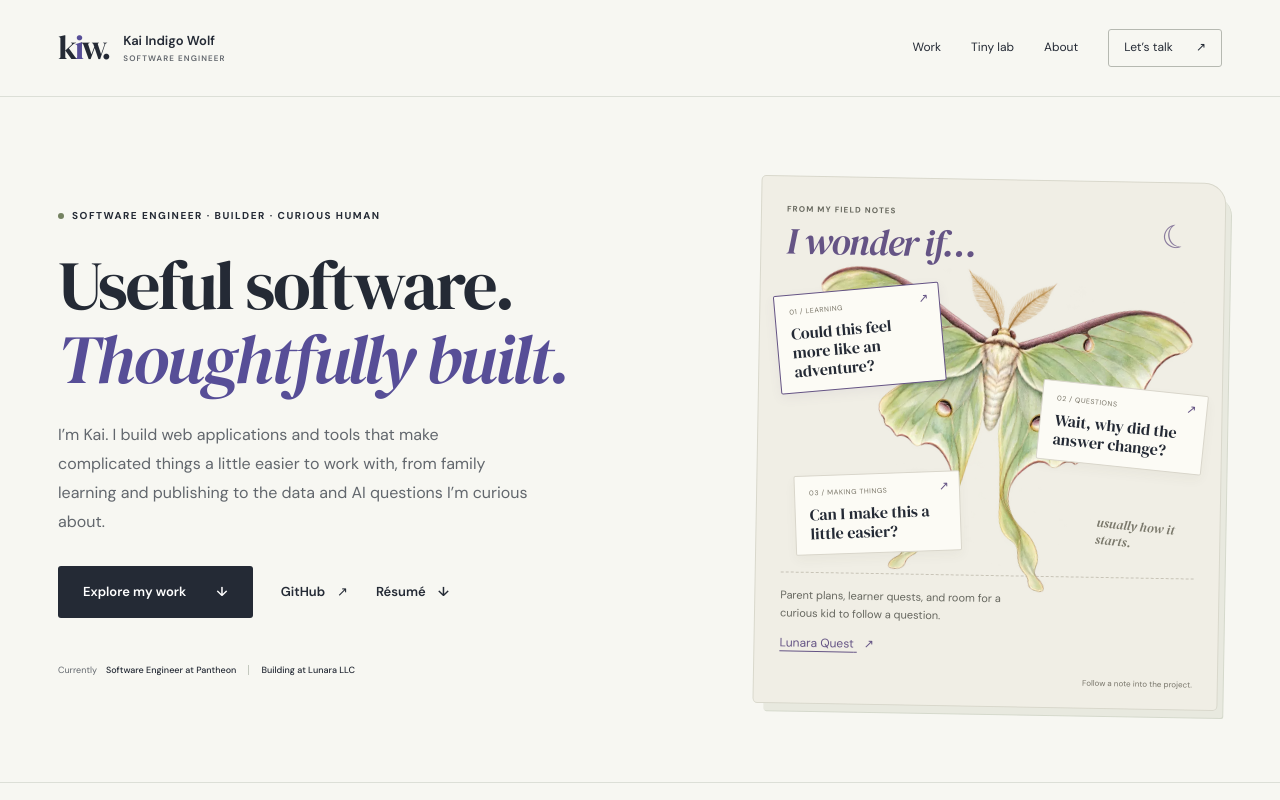
Test: field notes preview on hover or focus and link directly to their projects
Hover over the link "02 / Questions Wait, why did the answer change? ↗" at x=1122, y=427, box [1036,378,1209,475]
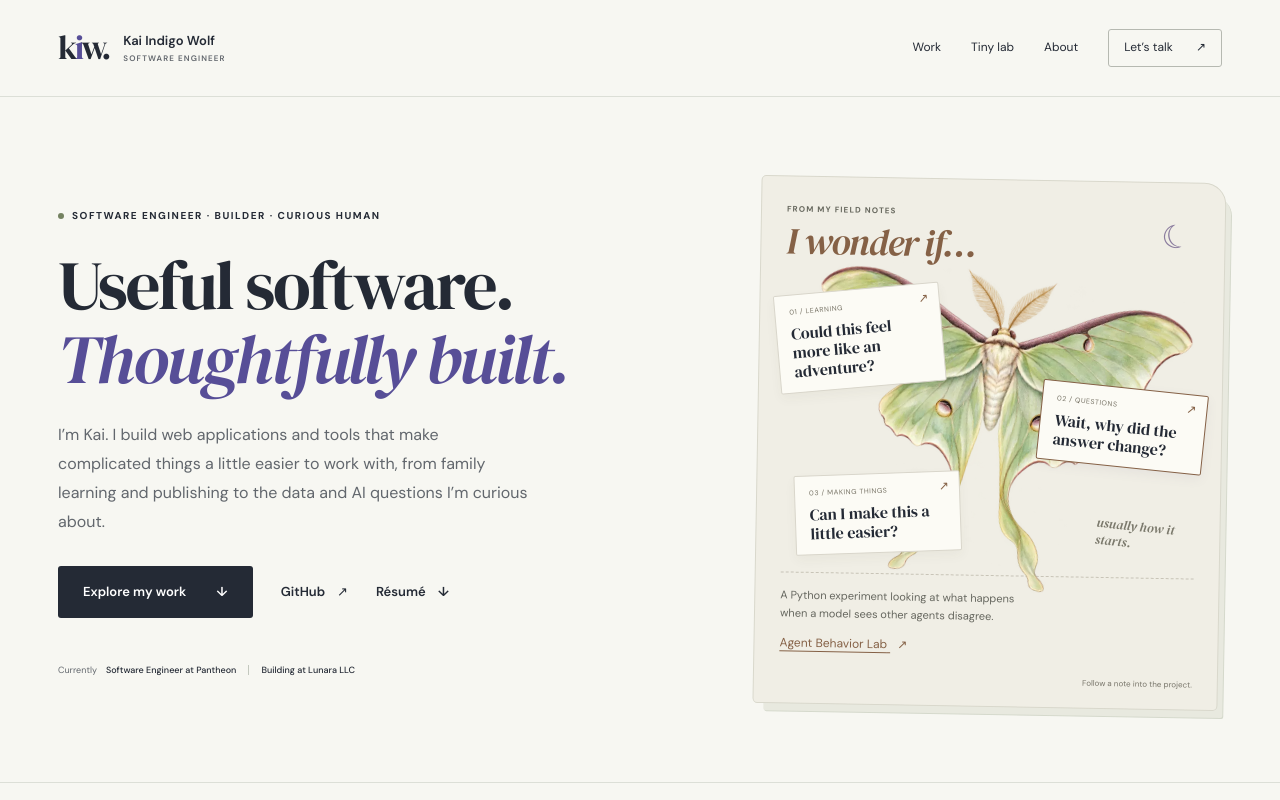
Now the link "Agent Behavior Lab ↗" has attribute href="#/projects/agent-behavior-lab", box [779,634,907,652]
Focus the link "01 / Learning Could this feel more like an adventure? ↗" at x=860, y=338, box [773,281,947,395]
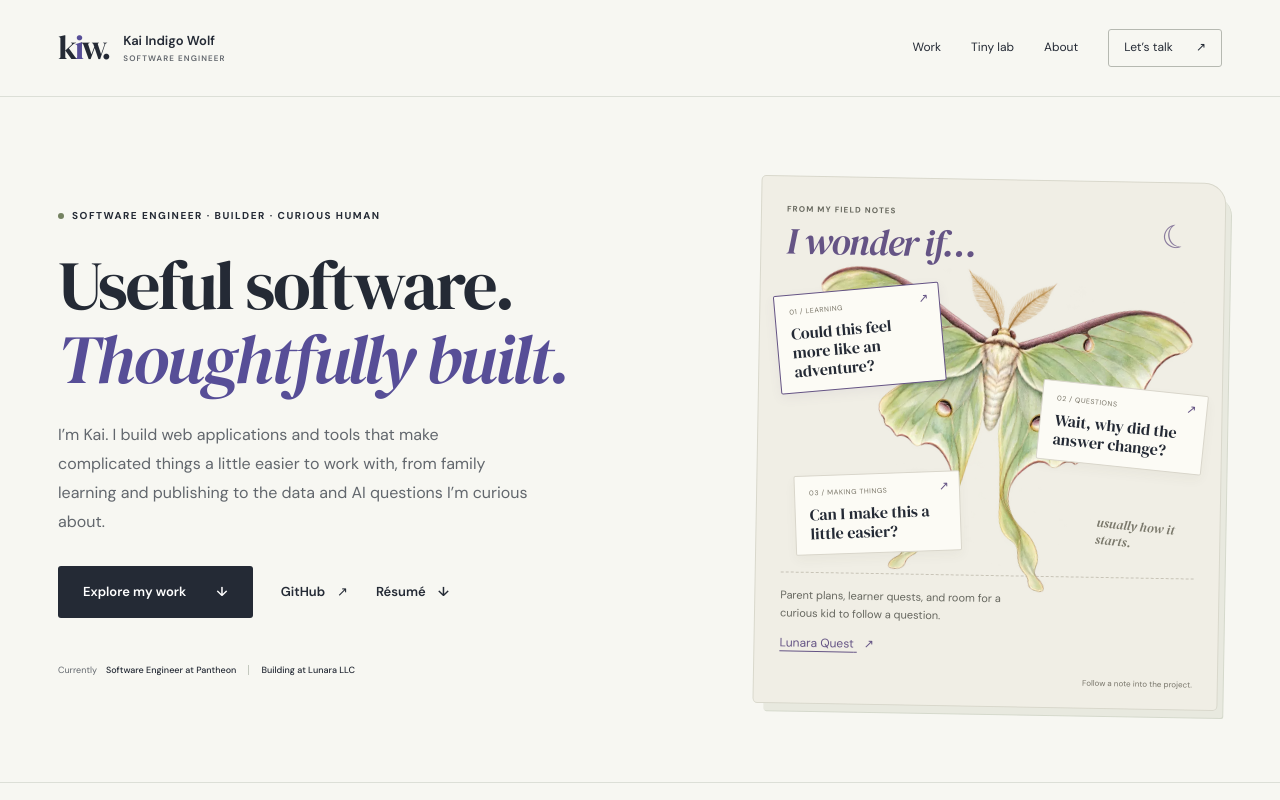
Now the link "Lunara Quest ↗" has attribute href="#/projects/lunara-quest", box [779,634,874,652]
Click the link "02 / Questions Wait, why did the answer change? ↗" at x=1122, y=427, box [1036,378,1209,475]
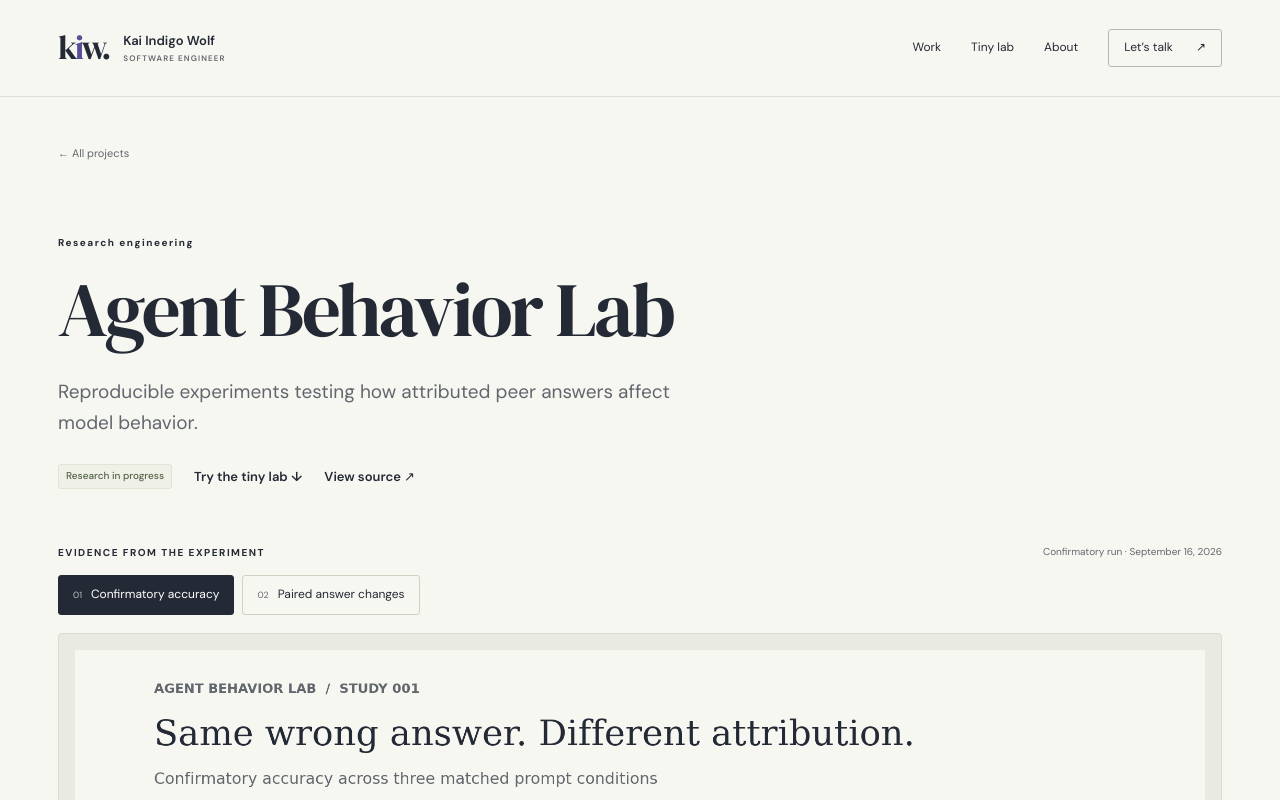
Now the heading "Agent Behavior Lab" is shown, box [58,256,673,362]
